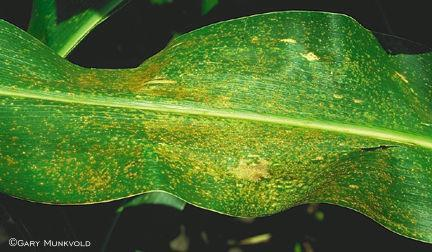Corn_Common_Rust: (199, 8, 383, 237), (80, 30, 205, 207), (0, 17, 81, 231), (384, 46, 432, 252)
